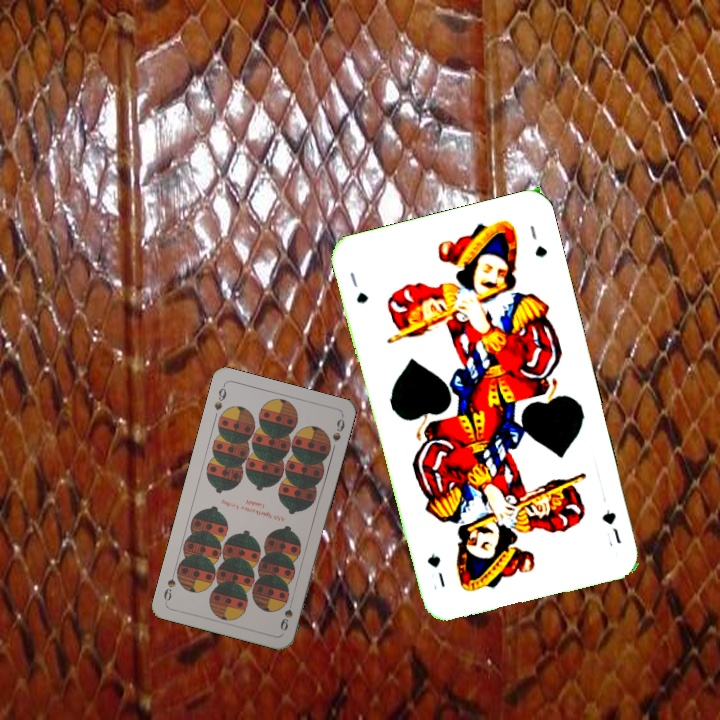GU: (598, 505, 624, 549), (345, 268, 371, 306)
S9: (276, 595, 296, 633), (210, 381, 229, 413)
